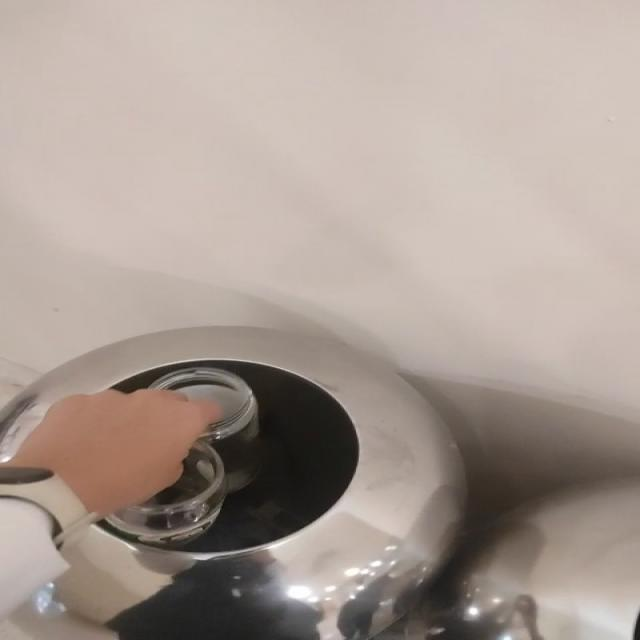glass: (105, 368, 261, 545)
